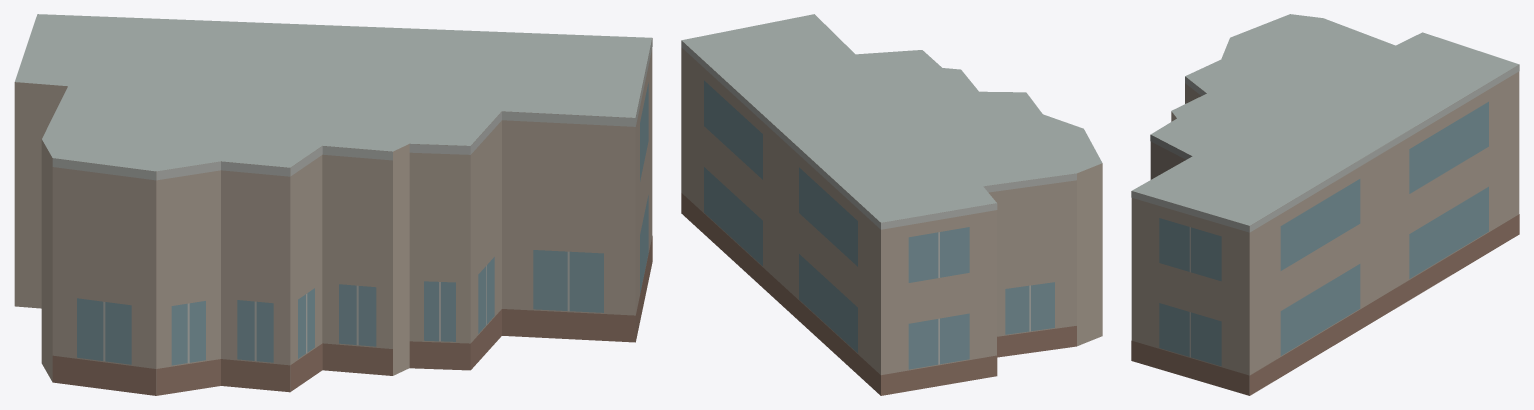
File: survey-upis-32915414.glb
3 renders of one model, left to right at view 1: azimuth 30°, elevation 25°; view 2: azimuth 150°, elevation 25°; view 3: azimuth 270°, elevation 25°, orthographic. The views are drawn at different scales.
Parts seen in each view (by area): view 1: survey-upis-32915414.tmp; view 2: survey-upis-32915414.tmp; view 3: survey-upis-32915414.tmp.
Part boxes in pixels (x1,y1,x2,y2): survey-upis-32915414.tmp: [14, 14, 652, 395]; survey-upis-32915414.tmp: [681, 14, 1102, 395]; survey-upis-32915414.tmp: [1131, 14, 1519, 395].
Bounding box in the file's own units: 16.31 × 6.1 × 12.62.
